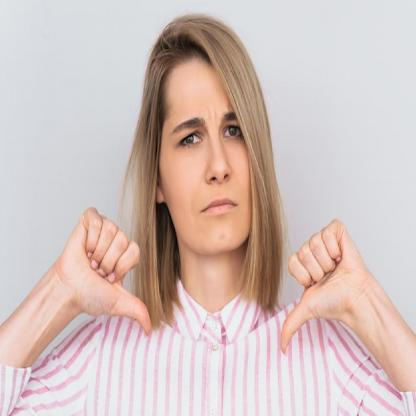thumb_down: (57, 203, 155, 343), (278, 214, 356, 356)
